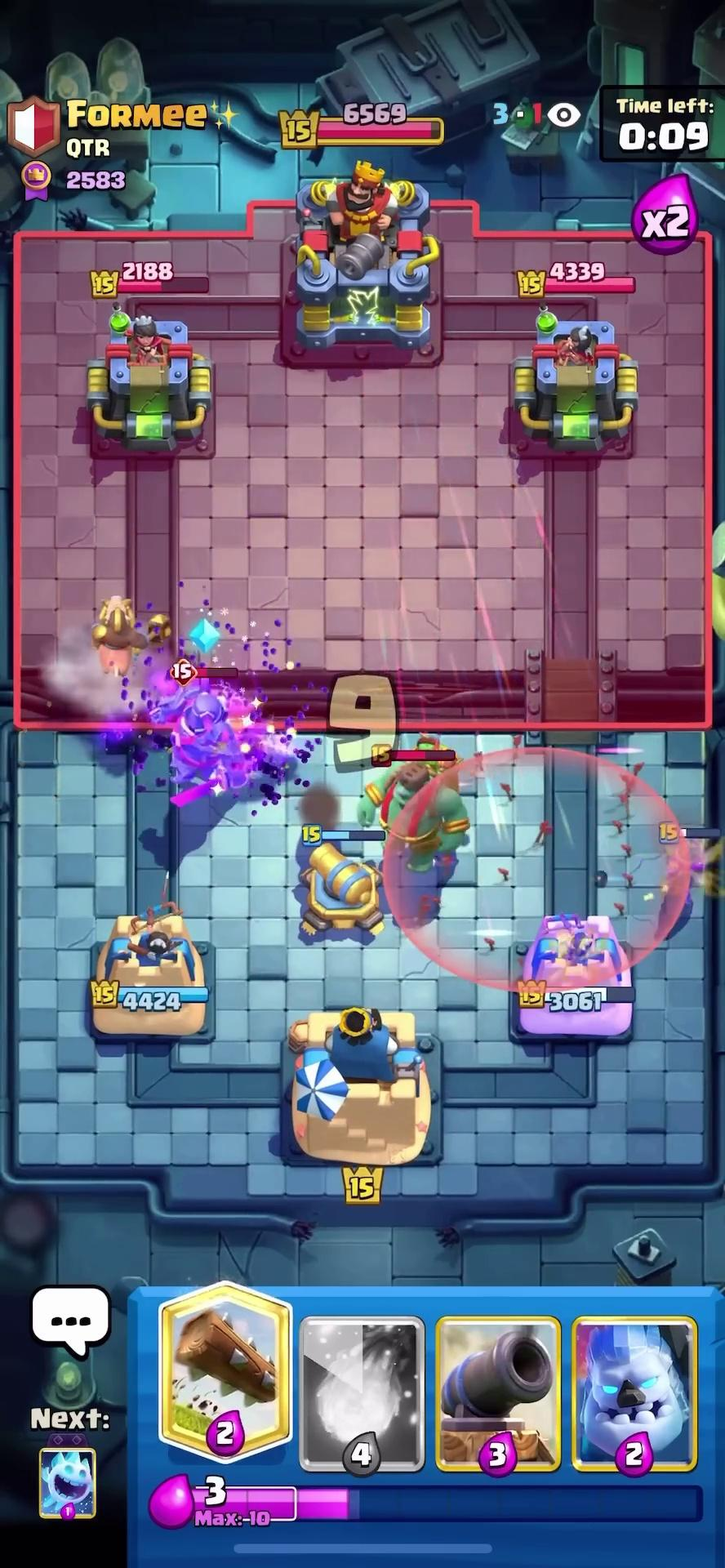cannon: (278, 823, 394, 937)
hog_rider: (71, 588, 163, 682)
musketeer: (663, 821, 725, 890)
